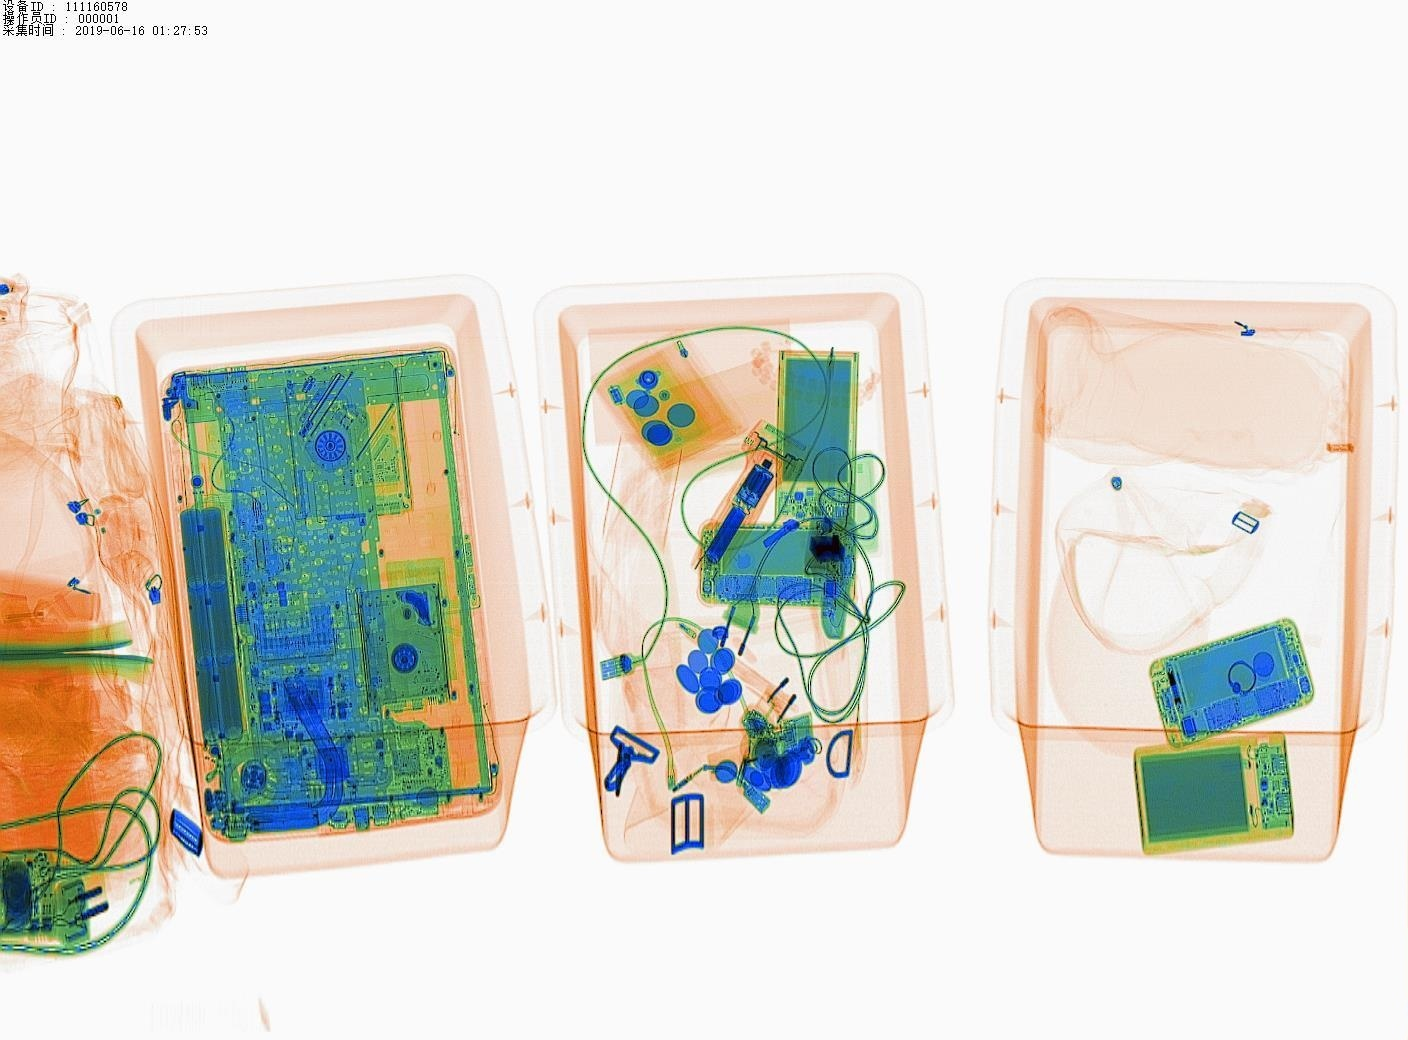NonmetallicFire: (700, 710, 803, 794)
